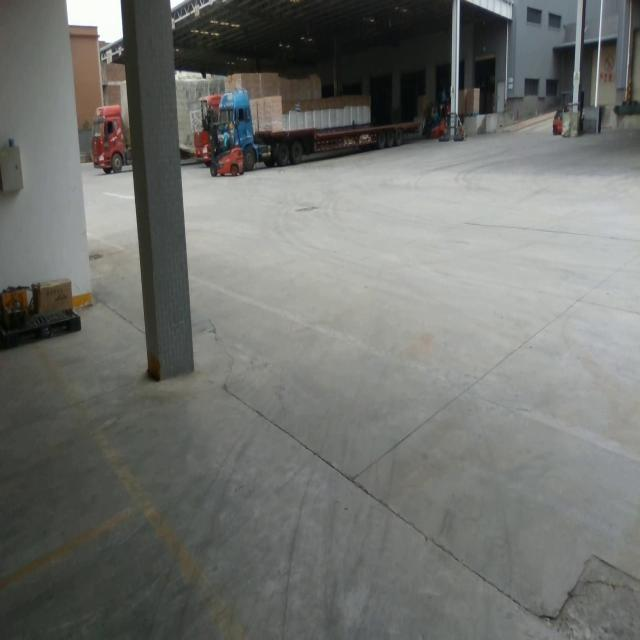forklift: (209, 121, 246, 180), (422, 103, 447, 139)
